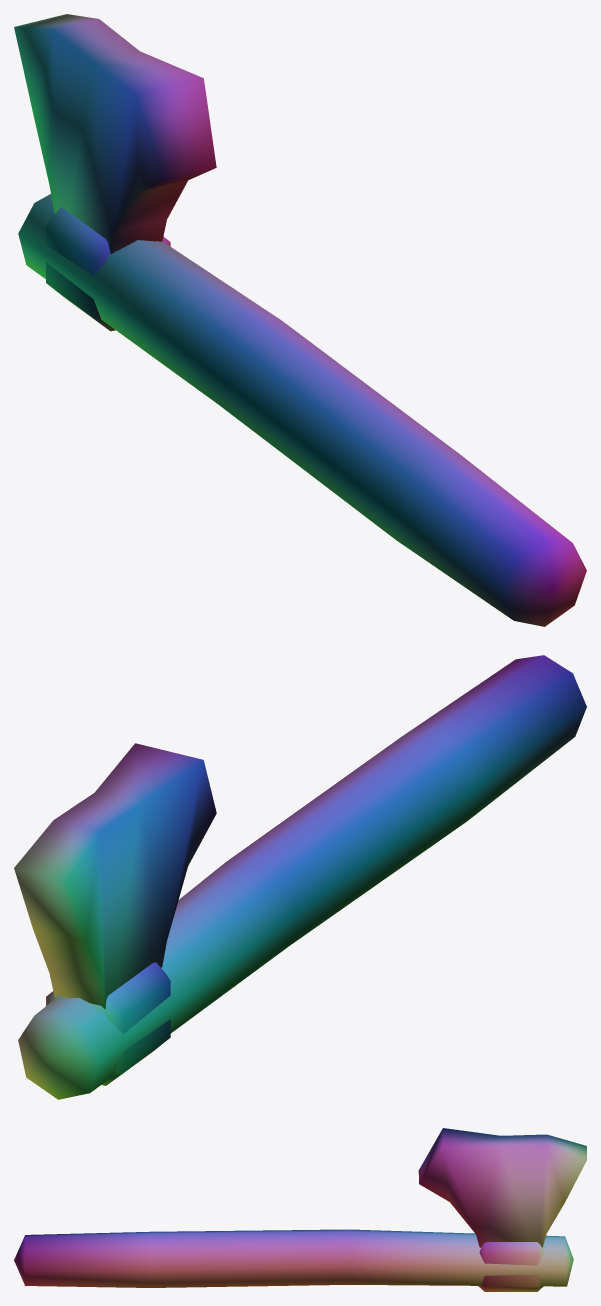
Rendered from SM_MonWeapon_Hatchet.fbx.
3 renders of one model, top to bottom at view 1: azimuth 30°, elevation 25°; view 2: azimuth 150°, elevation 25°; view 3: azimuth 270°, elevation 25°, orthographic. The views are drawn at different scales.
Visible parts, largest first — view 1: SM_MonWeapon_Hatchet; view 2: SM_MonWeapon_Hatchet; view 3: SM_MonWeapon_Hatchet.
Boxes of the visible parts, left/top/right/bottom form: SM_MonWeapon_Hatchet: left=14, top=14, right=586, bottom=626; SM_MonWeapon_Hatchet: left=14, top=655, right=586, bottom=1099; SM_MonWeapon_Hatchet: left=14, top=1128, right=586, bottom=1291.
Bounding box in the file's own units: 0.0666 × 0.1835 × 0.6356.
